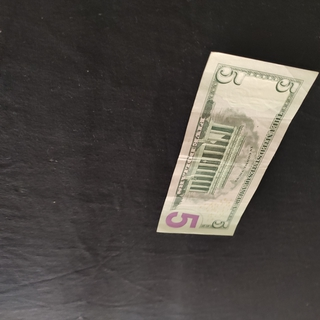5USDBack: (155, 51, 319, 236)
